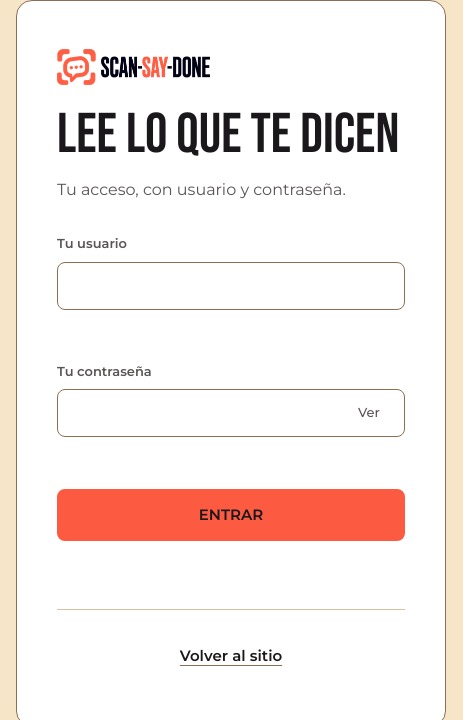
Test: LoginCard › 422 → «Revisa el usuario y la contraseña.»
This screenshot has width=463, height=720.
In the field labelled "Tu usuario": (231, 286) 57,262 -> 405,310, type "x"
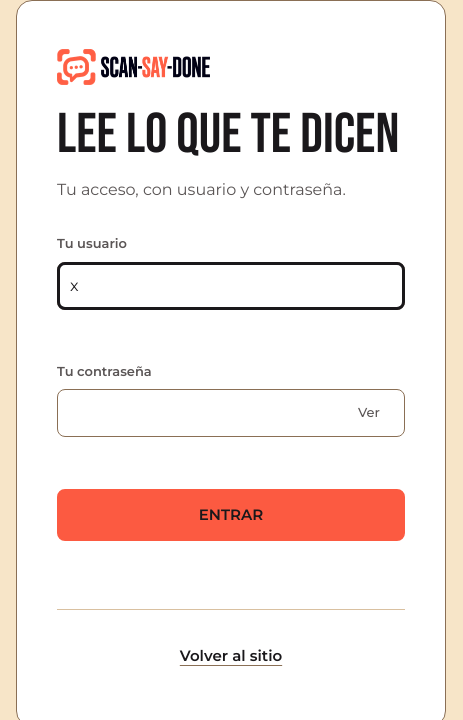
In the password field labelled "Tu contraseña": (231, 413) 57,389 -> 405,437, type "y"
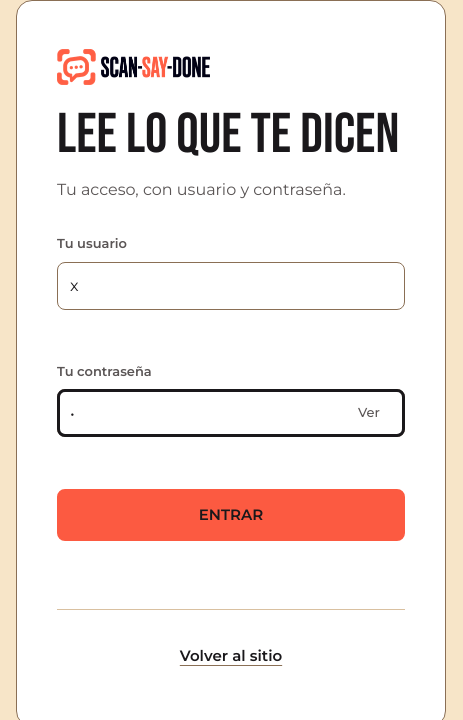
Click the button "ENTRAR": click(231, 515) 57,489 -> 405,541
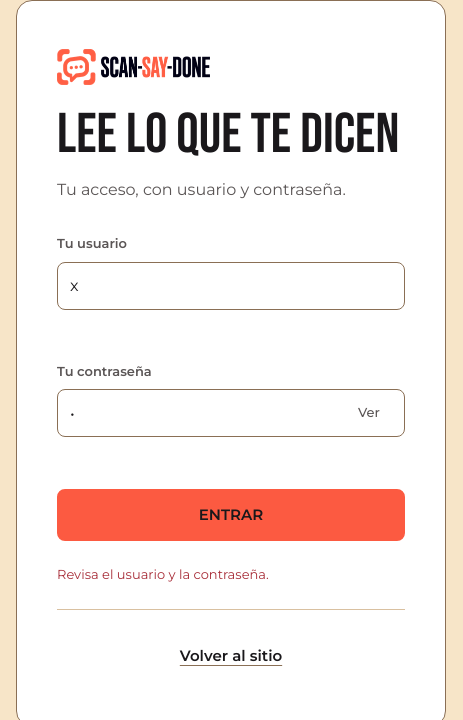
Now the text "Revisa el usuario y la contraseña." is shown, box 57,566 -> 269,582
